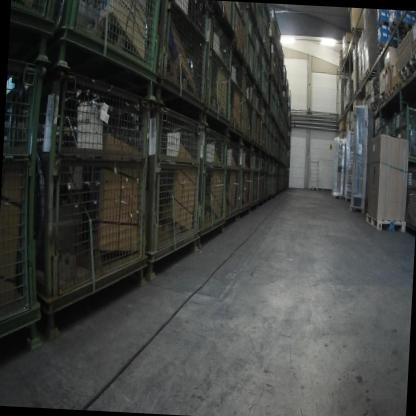pallet: (364, 213, 406, 233), (388, 21, 416, 37), (398, 52, 411, 75), (397, 68, 411, 89), (377, 42, 394, 57), (345, 204, 366, 216), (363, 68, 379, 82), (357, 78, 371, 91), (350, 25, 364, 37), (391, 82, 401, 95), (383, 64, 394, 75), (375, 20, 386, 31), (371, 87, 380, 99), (384, 90, 392, 102), (373, 98, 380, 110), (412, 51, 416, 71), (341, 197, 348, 208), (413, 35, 416, 60), (373, 93, 379, 105), (371, 82, 378, 92), (353, 89, 360, 97), (380, 94, 385, 105)
stillage: (34, 79, 155, 351), (0, 51, 58, 355), (141, 103, 207, 285), (51, 0, 162, 85), (152, 0, 214, 122), (195, 122, 230, 264), (203, 16, 237, 137), (8, 0, 62, 62), (223, 147, 247, 240), (224, 50, 248, 142), (389, 104, 416, 161), (227, 3, 251, 66), (238, 70, 257, 148), (237, 145, 254, 215), (401, 160, 416, 236), (243, 11, 258, 79), (209, 2, 235, 36), (252, 35, 266, 96), (250, 152, 262, 210), (252, 92, 263, 152), (262, 6, 272, 65), (253, 3, 265, 48), (261, 59, 271, 111), (259, 101, 269, 153), (376, 116, 391, 146), (256, 155, 265, 204), (268, 5, 277, 48), (264, 109, 272, 157), (262, 161, 270, 205), (244, 3, 258, 26), (267, 39, 275, 78), (266, 76, 273, 113)
